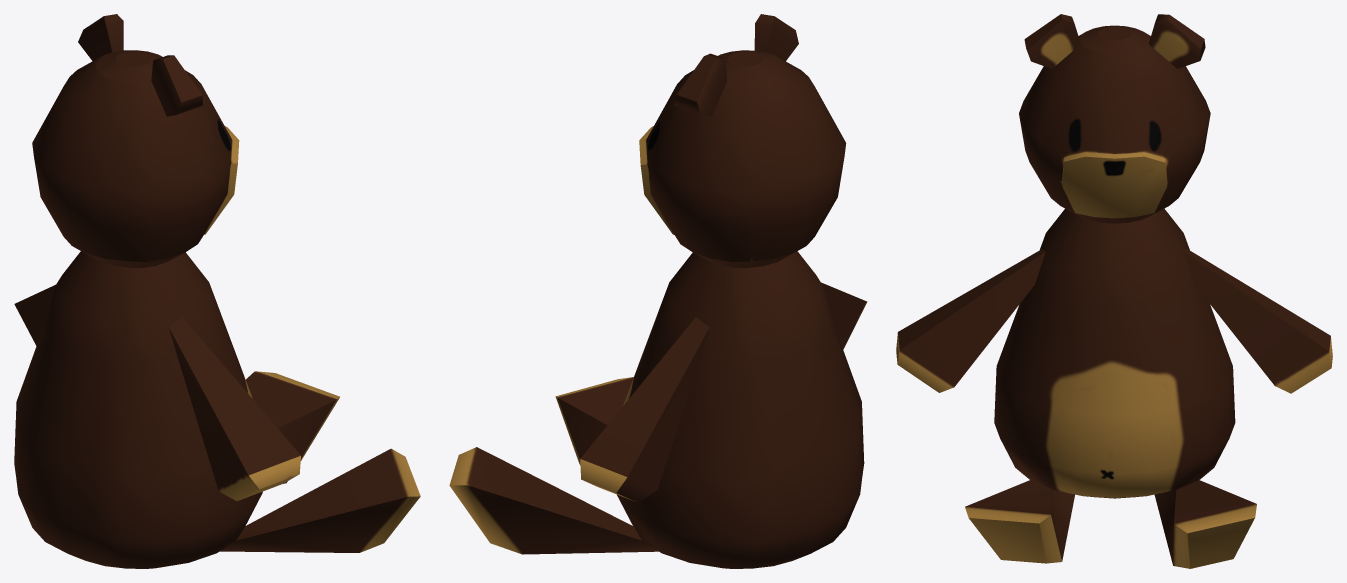
File: Bear.fbx
3 renders of one model, left to right at view 1: azimuth 30°, elevation 25°; view 2: azimuth 150°, elevation 25°; view 3: azimuth 270°, elevation 25°, orthographic. The views are drawn at different scales.
Parts seen in each view (by area): view 1: pCylinder4; view 2: pCylinder4; view 3: pCylinder4.
Boxes of the visible parts, <box> form: pCylinder4: <box>14,14,420,568</box>; pCylinder4: <box>449,14,866,568</box>; pCylinder4: <box>896,14,1332,568</box>.
Bounding box in the file's own units: 1.14 × 1.62 × 1.36.
